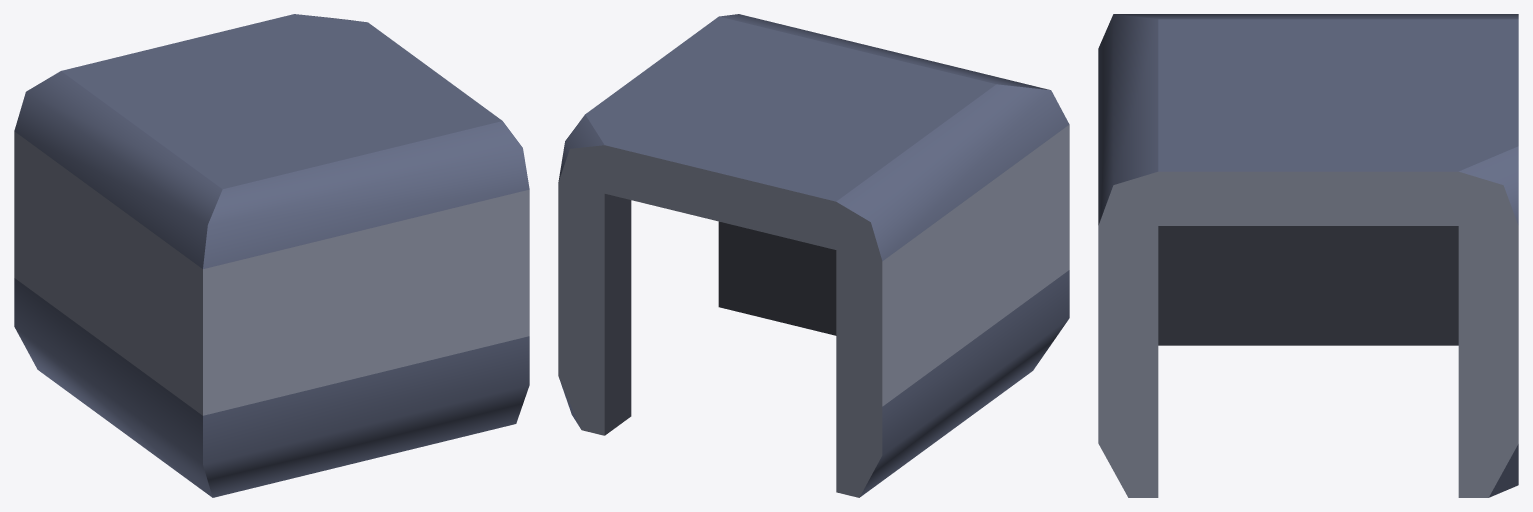
Rendered from CoverCorner-transformed.glb.
The picture shows the model from 3 angles, left to right: view 1: azimuth 30°, elevation 25°; view 2: azimuth 150°, elevation 25°; view 3: azimuth 270°, elevation 25°; orthographic projection. The views are drawn at different scales.
Parts seen in each view (by area): view 1: cover-corner; view 2: cover-corner; view 3: cover-corner.
Part boxes in pixels (x1,y1,x2,y2): cover-corner: (14, 14, 529, 497); cover-corner: (558, 14, 1069, 497); cover-corner: (1098, 14, 1518, 497).
Size of the model in its own units: 1.4 by 1.2 by 1.4.
